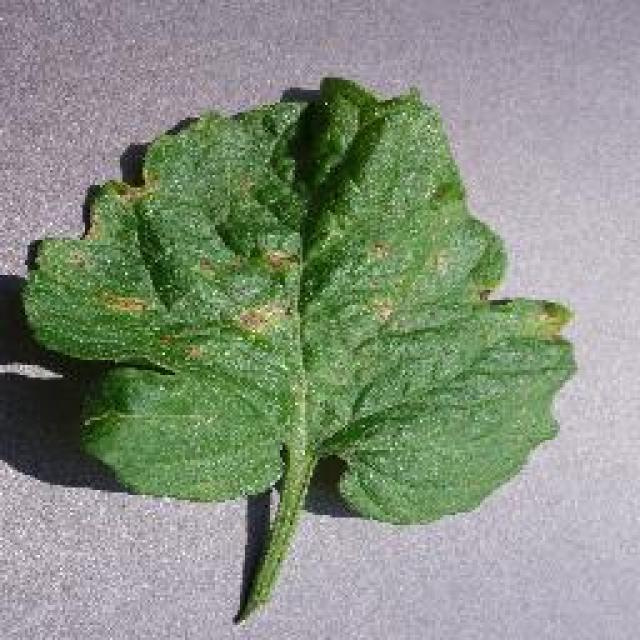Tomato target spot leaf: (22, 74, 578, 526)
